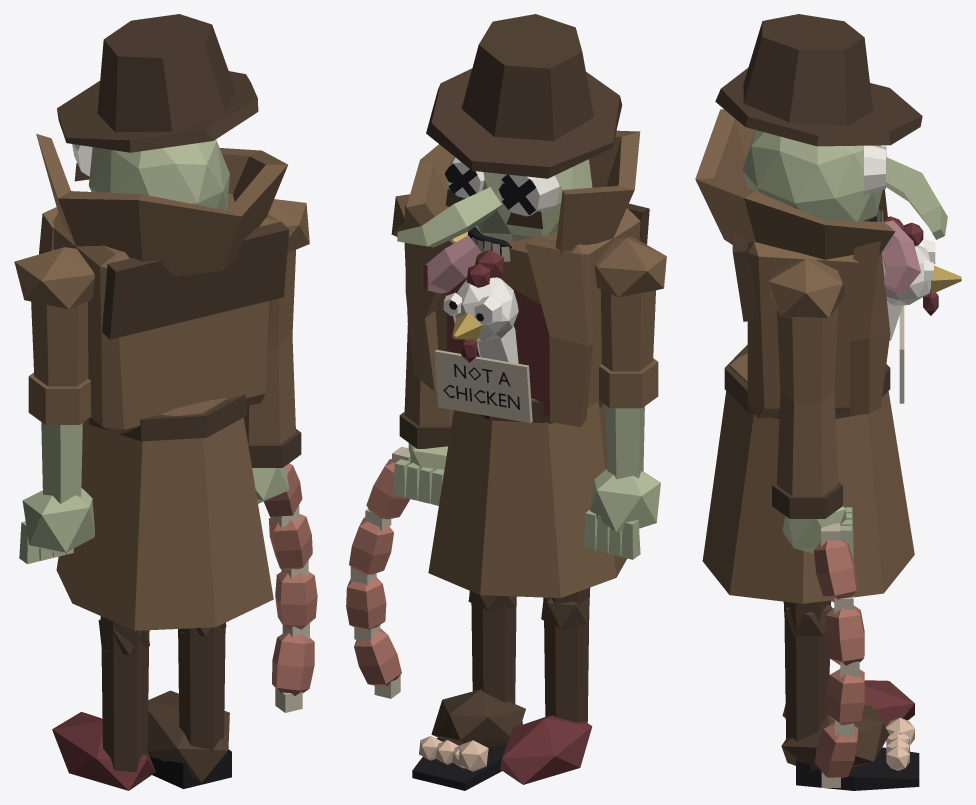
Rendered from smuggler.glb.
3 views of the same model, side by side, from view 1: azimuth 30°, elevation 25°; view 2: azimuth 150°, elevation 25°; view 3: azimuth 270°, elevation 25° (orthographic). The views are drawn at different scales.
Visible parts, largest first — view 1: chest, pelvis, head, forearm_r, shin_r, shin_l, forearm_l, upper_arm_l, upper_arm_r; view 2: chest, head, pelvis, forearm_r, shin_r, forearm_l, shin_l, upper_arm_l, head_ko; view 3: head, chest, pelvis, forearm_r, shin_r, upper_arm_r, head_ko, shin_l, thigh_r.
Part boxes in pixels (x1=…): chest: x1=36, y1=133, x2=289, y2=434; pelvis: x1=56, y1=394, x2=273, y2=630; head: x1=57, y1=14, x2=258, y2=210; forearm_r: x1=243, y1=336, x2=317, y2=712; shin_r: x1=147, y1=622, x2=231, y2=788; shin_l: x1=52, y1=619, x2=155, y2=790; forearm_l: x1=19, y1=372, x2=94, y2=564; upper_arm_l: x1=14, y1=247, x2=94, y2=386; upper_arm_r: x1=268, y1=199, x2=309, y2=346; chest: x1=405, y1=130, x2=649, y2=426; head: x1=397, y1=14, x2=622, y2=261; pelvis: x1=428, y1=398, x2=627, y2=597; forearm_r: x1=346, y1=324, x2=453, y2=698; shin_r: x1=412, y1=591, x2=525, y2=790; forearm_l: x1=584, y1=358, x2=660, y2=559; shin_l: x1=500, y1=597, x2=592, y2=784; upper_arm_l: x1=595, y1=236, x2=666, y2=371; head_ko: x1=423, y1=163, x2=536, y2=293; head: x1=715, y1=14, x2=947, y2=239; chest: x1=695, y1=109, x2=961, y2=418; pelvis: x1=702, y1=345, x2=914, y2=603; forearm_r: x1=772, y1=393, x2=864, y2=787; shin_r: x1=781, y1=605, x2=919, y2=790; upper_arm_r: x1=768, y1=259, x2=844, y2=402; head_ko: x1=881, y1=220, x2=920, y2=293; shin_l: x1=782, y1=680, x2=914, y2=726; thigh_r: x1=783, y1=600, x2=831, y2=624.
Bounding box in the file's own units: 0.8959 × 2.08 × 0.691.
